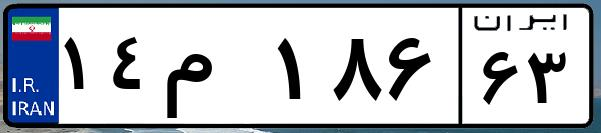1: (270, 28, 330, 110), (57, 26, 110, 100)
3: (525, 38, 570, 115)
4: (110, 28, 158, 98)
6: (385, 28, 445, 110), (475, 38, 525, 113)
8: (330, 28, 385, 110)
م: (158, 20, 270, 120)
